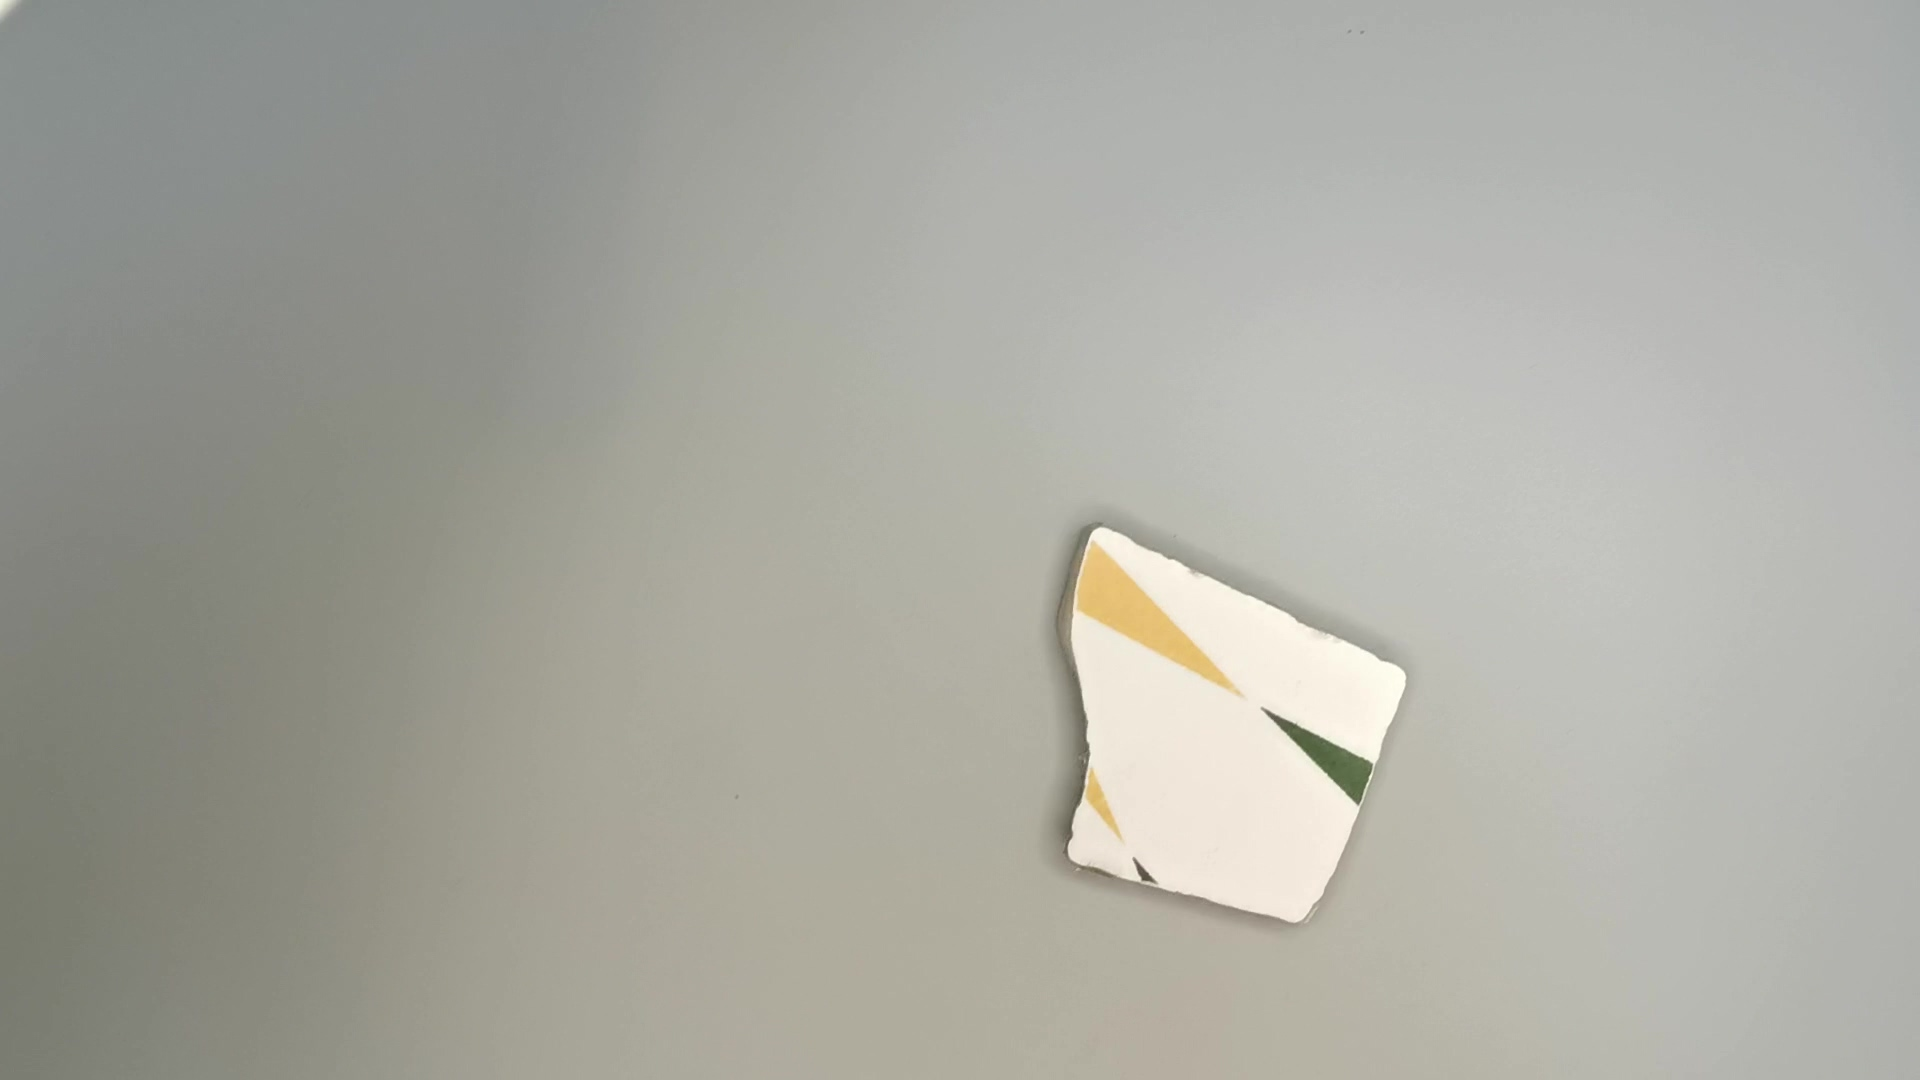ceramic: (1048, 512, 1412, 932)
